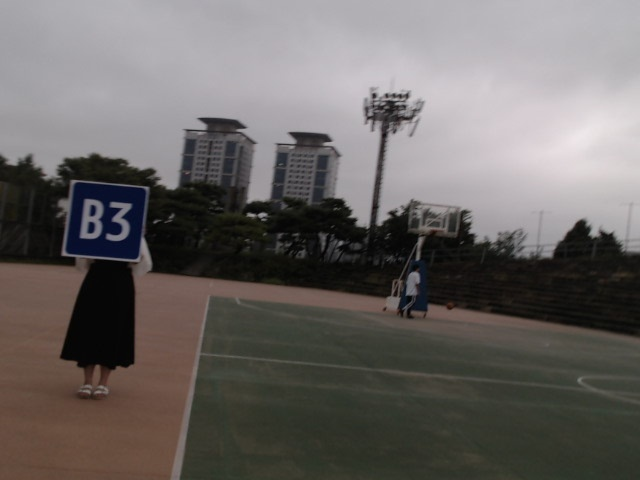delivery_b3: (63, 181, 149, 261)
